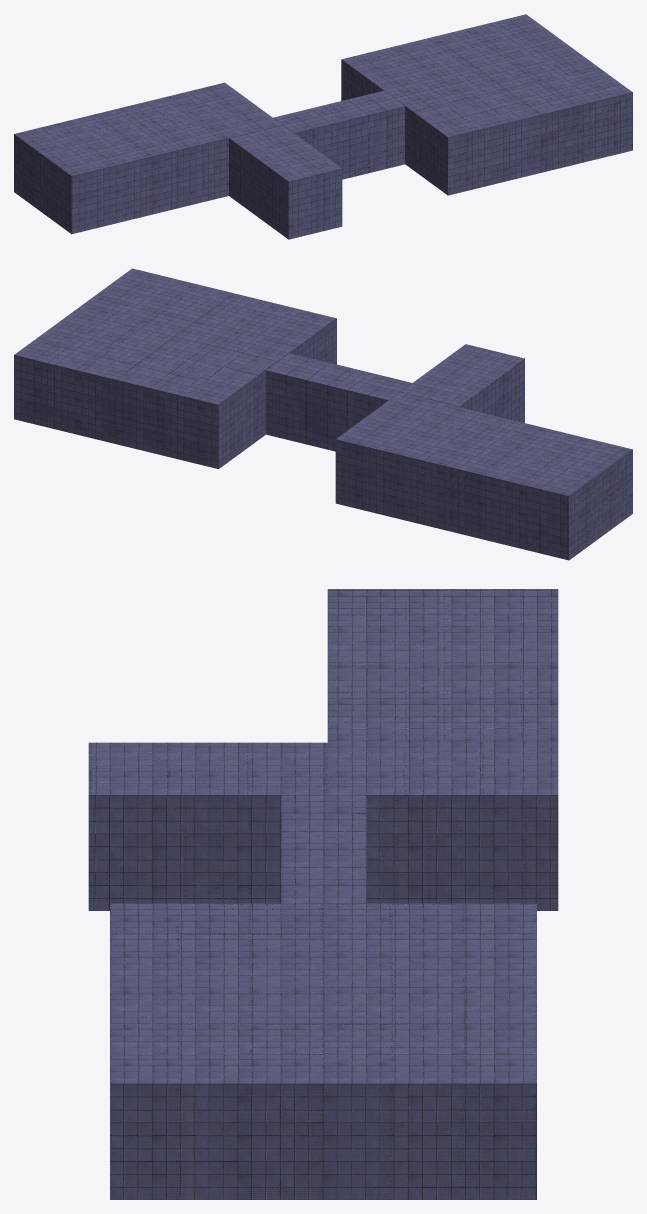
The model's file is level.obj.
3 renders of one model, top to bottom at view 1: azimuth 30°, elevation 25°; view 2: azimuth 150°, elevation 25°; view 3: azimuth 270°, elevation 25°, orthographic. The views are drawn at different scales.
Parts seen in each view (by area): view 1: Map_sector.018, sector_sector.001; view 2: Map_sector.018, sector_sector.001; view 3: Map_sector.018, sector_sector.001.
Part boxes in pixels (bbox=[...]): Map_sector.018: bbox=[14, 14, 632, 239]; sector_sector.001: bbox=[14, 15, 632, 238]; Map_sector.018: bbox=[14, 268, 632, 560]; sector_sector.001: bbox=[14, 268, 629, 558]; Map_sector.018: bbox=[88, 589, 558, 1199]; sector_sector.001: bbox=[88, 589, 558, 1199].
Size of the model in its own units: 27.4 by 3 by 11.
Materials: 1 (1 with a texture image).
